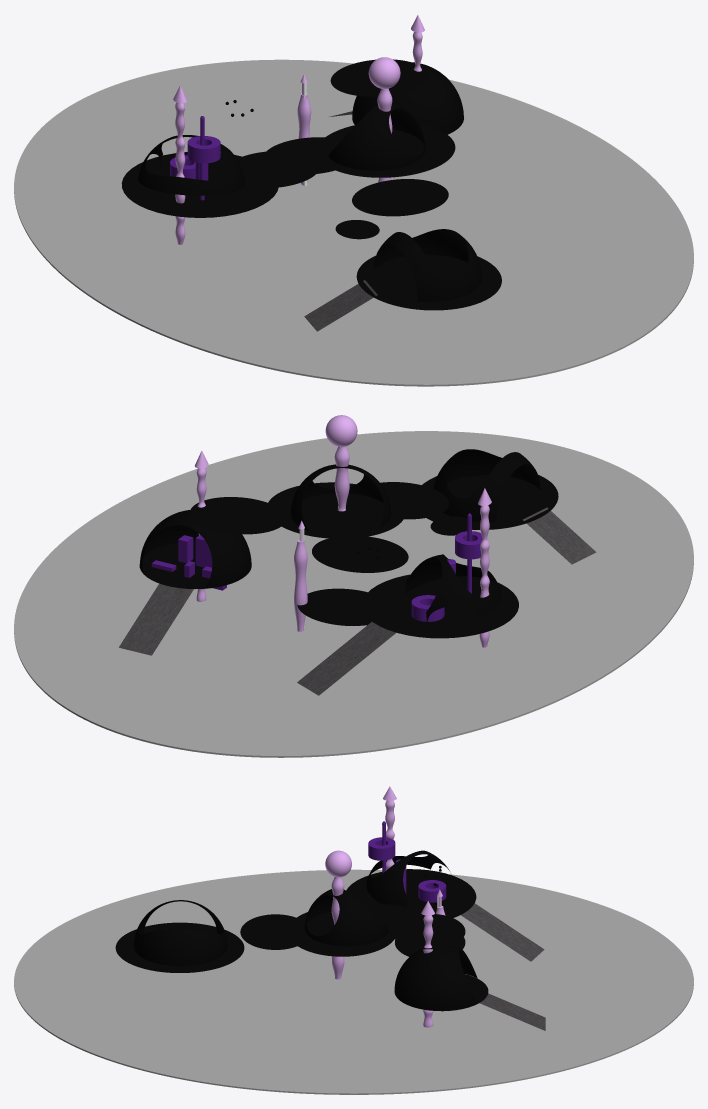
The picture shows the model from 3 angles, top to bottom: view 1: azimuth 30°, elevation 25°; view 2: azimuth 150°, elevation 25°; view 3: azimuth 270°, elevation 25°; orthographic projection. The views are drawn at different scales.
Visible parts, largest first — view 1: Object_52, Object_17, Object_47, Object_48, Object_30, Layer 03, Object_7, Object_29, Object_49, Object_18, Object_16, Object_31 (+4 smaller); view 2: Object_52, Object_17, Object_29, Layer 03, Object_47, Object_7, Object_48, Object_18, Object_16, Object_31, Object_35, Object_36 (+8 smaller); view 3: Object_52, Object_7, Object_47, Object_30, Object_17, Layer 03, Object_48, Object_29, Object_18, Object_16, Object_49, Object_36 (+4 smaller).
Part boxes in pixels (x1,y1,x2,y2): Object_52: (14,59,693,386); Object_17: (121,152,278,217); Object_47: (374,229,482,301); Object_48: (356,254,501,310); Object_30: (328,102,425,170); Layer 03: (173,15,424,244); Object_7: (352,62,463,134); Object_29: (316,124,455,177); Object_49: (352,179,448,216); Object_18: (138,135,244,195); Object_16: (330,59,427,96); Object_31: (262,137,334,174); Object_52: (14,431,693,757); Object_17: (362,574,518,638); Object_29: (268,482,405,538); Layer 03: (195,415,491,647); Object_47: (433,449,540,522); Object_7: (140,510,251,588); Object_48: (422,475,558,529); Object_18: (405,554,501,623); Object_16: (190,497,286,534); Object_31: (312,536,408,572); Object_35: (119,583,193,655); Object_36: (297,622,395,695); Object_52: (14,869,693,1094); Object_7: (394,945,477,1010); Object_47: (133,900,227,966); Object_30: (304,889,388,946); Object_17: (346,869,476,917); Layer 03: (325,786,445,1027); Object_48: (115,922,244,972); Object_29: (287,910,395,956); Object_18: (366,850,453,907); Object_16: (395,914,465,949); Object_49: (240,914,297,949); Object_36: (461,903,544,961).
Size of the model in its own units: 168 by 215 by 63.06.
Materials: 7 (1 with a texture image).
